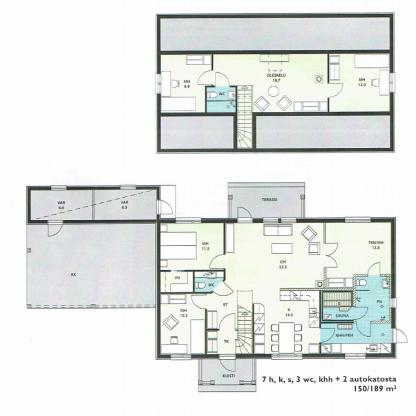door: (322, 242, 339, 267), (206, 253, 231, 270), (193, 69, 215, 87), (356, 320, 376, 339), (216, 312, 236, 330), (236, 206, 256, 224), (220, 354, 236, 373), (390, 329, 409, 344), (154, 200, 172, 214), (328, 85, 346, 99), (48, 221, 62, 238), (213, 72, 228, 87), (319, 327, 334, 342), (366, 262, 382, 276), (352, 307, 368, 320), (190, 295, 207, 306)
window: (270, 350, 308, 362), (174, 217, 203, 226), (344, 352, 366, 361), (344, 217, 370, 224), (279, 218, 296, 228), (118, 183, 137, 190), (263, 217, 277, 224), (172, 356, 188, 361), (50, 185, 66, 190)
zone: (158, 224, 392, 354), (26, 224, 157, 308), (159, 55, 328, 113), (160, 18, 391, 49), (227, 226, 324, 291), (320, 289, 391, 354), (256, 115, 389, 148), (330, 55, 391, 114), (331, 226, 388, 288), (257, 292, 318, 349), (160, 224, 226, 270), (158, 292, 205, 351), (206, 295, 250, 353), (160, 115, 234, 148), (230, 184, 304, 216), (199, 358, 256, 391), (30, 188, 92, 218), (94, 191, 157, 219), (196, 269, 228, 295), (160, 271, 196, 293), (236, 112, 252, 148)
